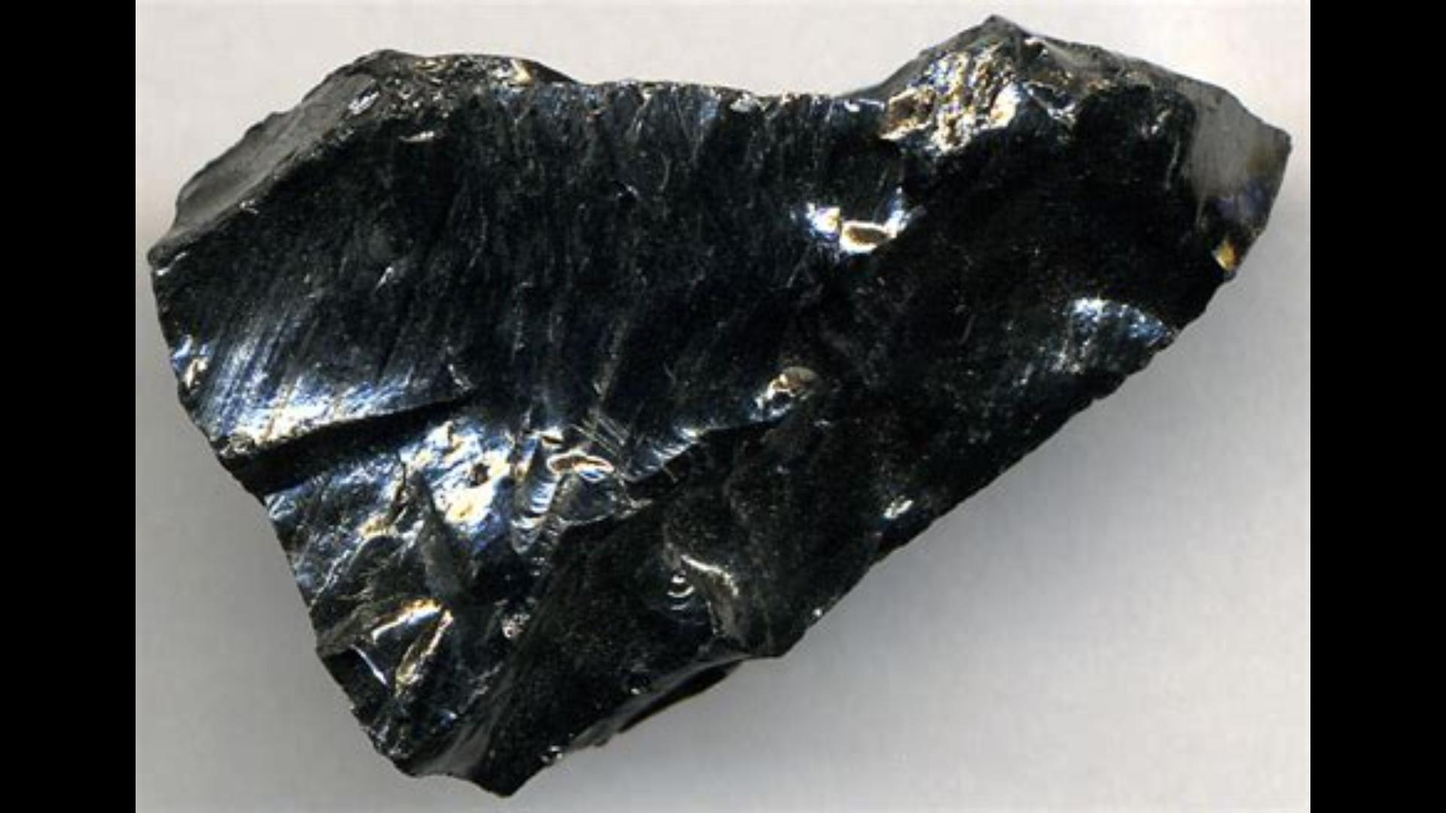rock: (148, 20, 1289, 791)
